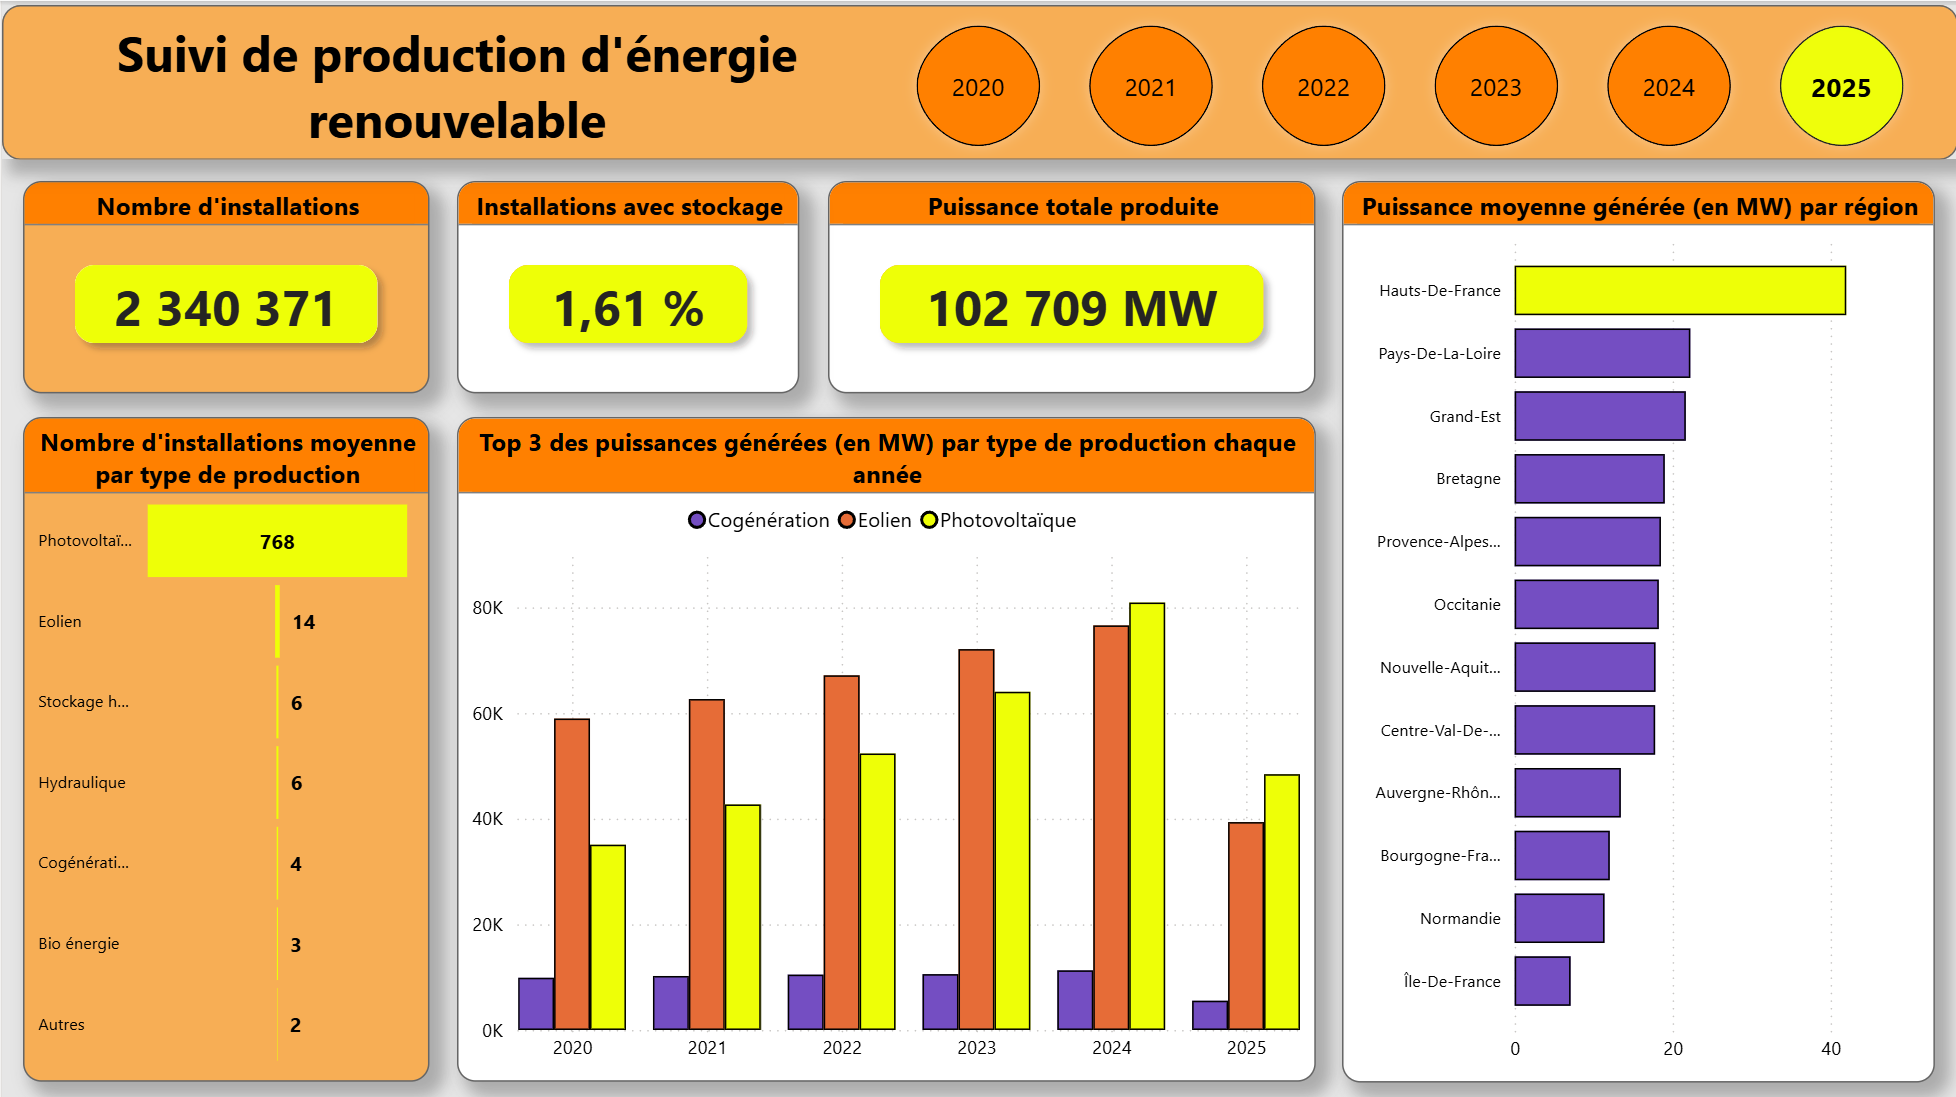

Layout of this report page (visuals, bound fields, positions):
{"tool":"powerbi","page":{"name":"Suivi de production d’énergie renouvelable","canvas":[1280,720],"ordinal":0},"visuals":[{"type":"cardVisual","title":"Nombre d''installations","fields":{"Data":["Sum(Production énergie renouvelable.NOMBRE INSTALLATIONS)"]},"box":[14,117.9,266.4,139.4],"z":0},{"type":"cardVisual","title":"Puissance totale produite","fields":{"Data":["Sum(Production énergie renouvelable.PUISSANCE MW)"]},"box":[540.2,117.9,319.2,139.4],"z":1000},{"type":"cardVisual","title":"Installations avec stockage","fields":{"Data":["Production énergie renouvelable.% Installations avec Stockage"]},"box":[297.7,117.9,224.3,139.4],"z":2000},{"type":"funnel","title":"Nombre d''installations moyenne par type de production","fields":{"Category":["Type énergie renouvelable.Type Production"],"Y":["Avg(Production énergie renouvelable.NOMBRE INSTALLATIONS)"]},"box":[14,272.2,266.4,435.5],"z":3000},{"type":"clusteredBarChart","title":"Puissance moyenne générée (en MW) par région","fields":{"Category":["Production énergie renouvelable.REGION"],"Y":["Avg(Production énergie renouvelable.PUISSANCE MW)"]},"box":[876.7,117.9,388.5,589.7],"z":4000},{"type":"clusteredColumnChart","title":"Top 3 des puissances générées (en MW) par type de production chaque année","fields":{"Category":["Calendrier.Date.Variation.Hiérarchie de dates.Année"],"Y":["Sum(Production énergie renouvelable.PUISSANCE MW)"],"Series":["Type énergie renouvelable.Type Production"]},"box":[297.7,272.2,561.6,435.5],"z":5000},{"type":"shape","box":[0,2.5,1280,101.4],"z":6000},{"type":"advancedSlicerVisual","fields":{"Values":["Calendrier.Date.Variation.Hiérarchie de dates.Année"]},"box":[582.6,0,682.5,111.1],"z":7000},{"type":"textbox","box":[14,6.6,568.2,97.3],"z":8000}]}

Visuals, with their boxes in screenshot pixels (x1, y1, x2, y2), scaled from the page's 1280x720 canvas onto the 1956x1097 screenshot:
"Nombre d''installations" cardVisual: l=21, t=180, r=428, b=392
"Puissance totale produite" cardVisual: l=825, t=180, r=1313, b=392
"Installations avec stockage" cardVisual: l=455, t=180, r=798, b=392
"Nombre d''installations moyenne par type de production" funnel: l=21, t=415, r=428, b=1078
"Puissance moyenne générée (en MW) par région" clusteredBarChart: l=1340, t=180, r=1933, b=1078
"Top 3 des puissances générées (en MW) par type de production chaque année" clusteredColumnChart: l=455, t=415, r=1313, b=1078
shape: l=0, t=4, r=1955, b=158
advancedSlicerVisual - Calendrier.Date.Variation.Hiérarchie de dates.Année: l=890, t=0, r=1933, b=169
textbox: l=21, t=10, r=890, b=158
